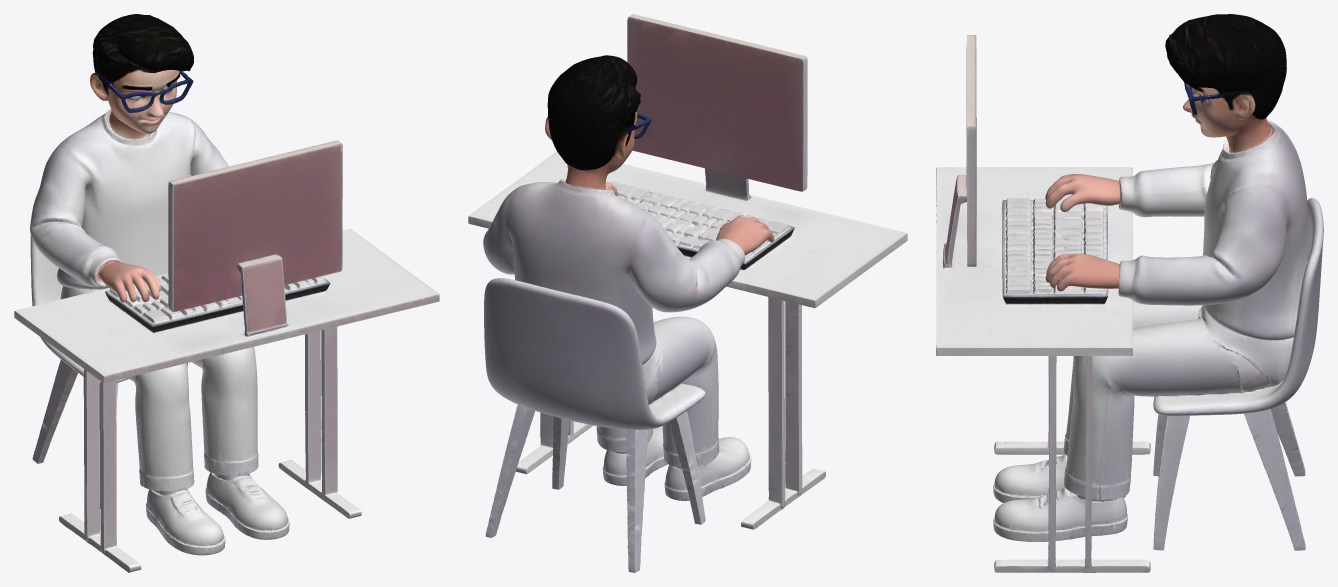
File: naman-at-desk.glb
3 renders of one model, left to right at view 1: azimuth 30°, elevation 25°; view 2: azimuth 150°, elevation 25°; view 3: azimuth 270°, elevation 25°, orthographic. The views are drawn at different scales.
Parts seen in each view (by area): view 1: model; view 2: model; view 3: model.
Part boxes in pixels (x1,y1,x2,y2): model: (14, 14, 439, 572); model: (468, 14, 907, 572); model: (936, 14, 1323, 572).
Size of the model in its own units: 1.38 by 1.76 by 1.25.
Materials: 1 (1 with a texture image).
